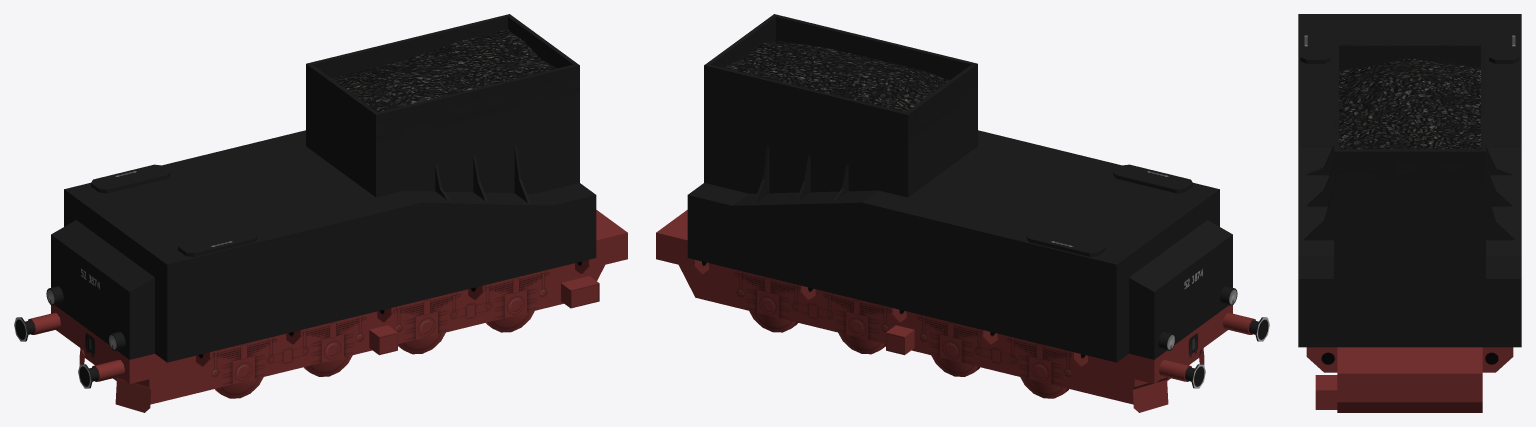
The model's file is BR52_tender.glb.
The picture shows the model from 3 angles, left to right: view 1: azimuth 30°, elevation 25°; view 2: azimuth 150°, elevation 25°; view 3: azimuth 270°, elevation 25°; orthographic projection. The views are drawn at different scales.
Visible parts, largest first — view 1: Tender; view 2: Tender; view 3: Tender.
Boxes of the visible parts, <box> form: Tender: <box>14,14,627,412</box>; Tender: <box>656,14,1269,412</box>; Tender: <box>1298,14,1521,412</box>.
Bounding box in the file's own units: 9.13 × 4.11 × 3.01.
1 material, 1 textured.
